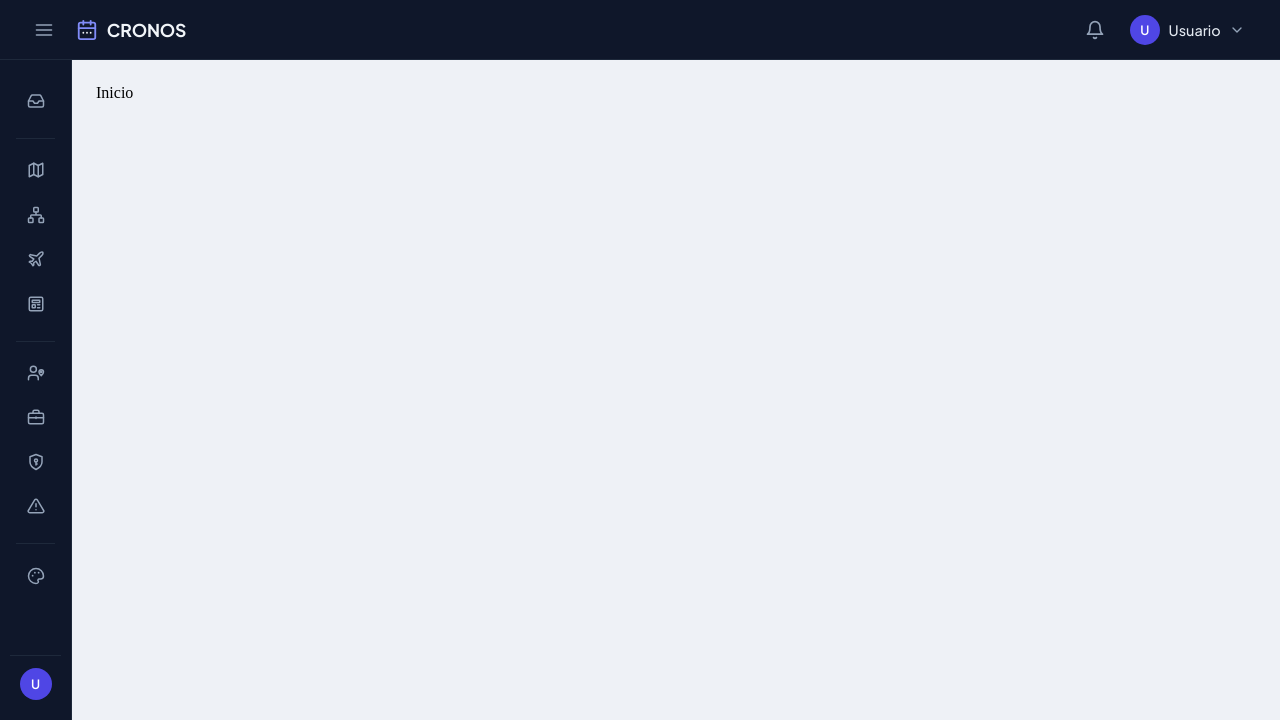
Test: Layout Mis tareas navigation › shows the independent operational-alert count without changing pending-request navigation
This screenshot has width=1280, height=720.
Click the button named "Expandir menú". click: (44, 30)
box: left=24, top=10, right=64, bottom=50
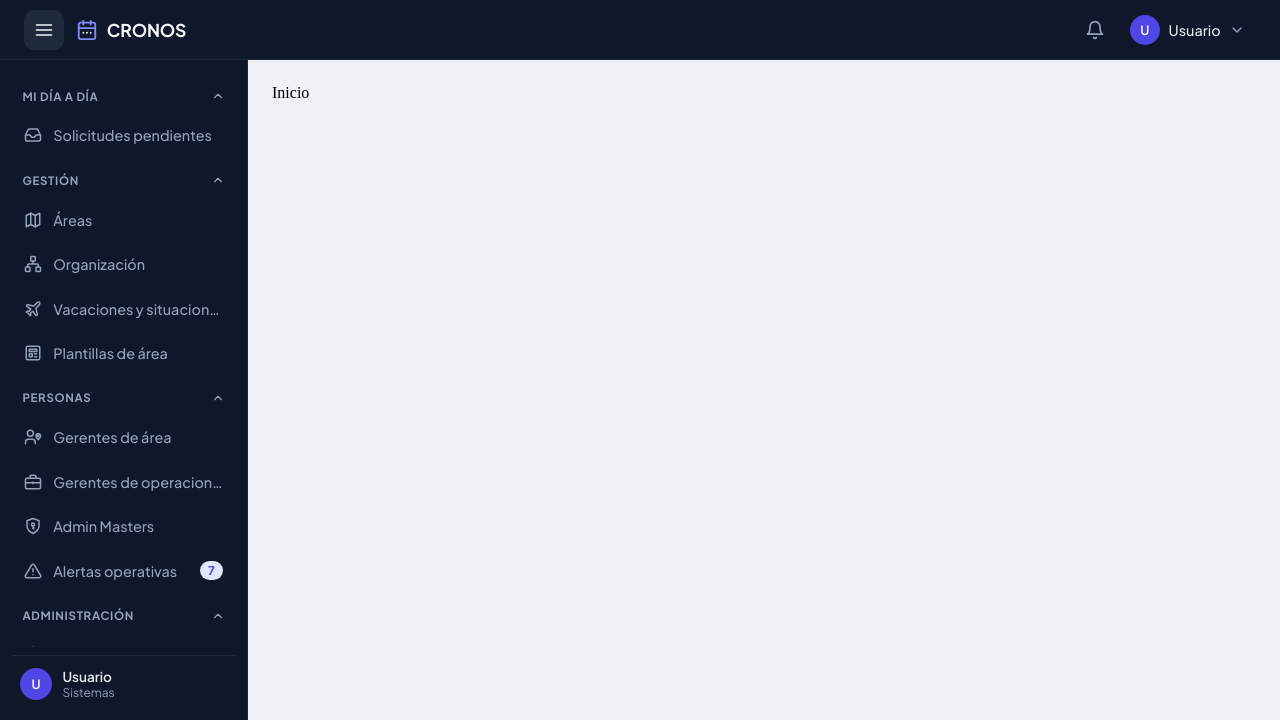
Check: the button named "Notificaciones" is shown, box left=1075, top=10, right=1115, bottom=50
Check: the text "7" is shown, box left=200, top=561, right=223, bottom=580
